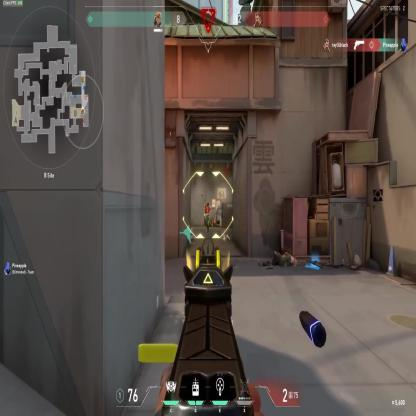enemy: (204, 202, 210, 232)
enemy_head: (204, 204, 206, 208)
